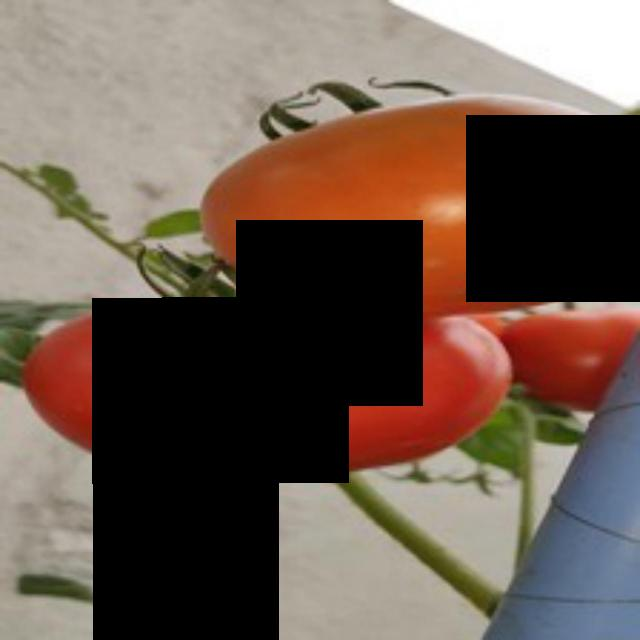tomato: (170, 104, 640, 334), (30, 288, 517, 488)
